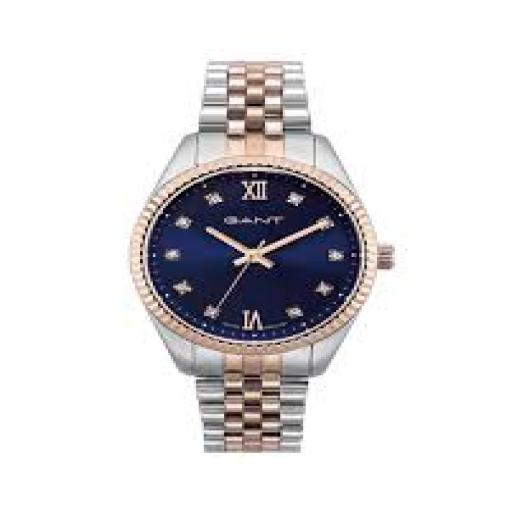KolSaati: (86, 30, 428, 452)
